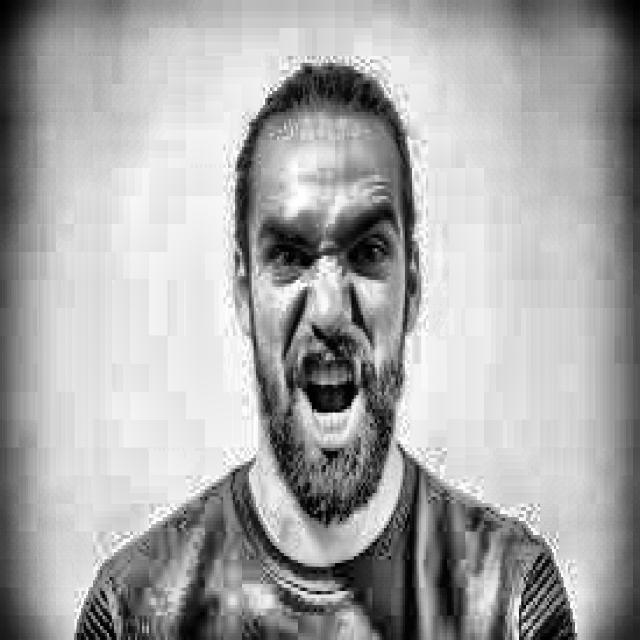angry: (202, 48, 437, 529)
